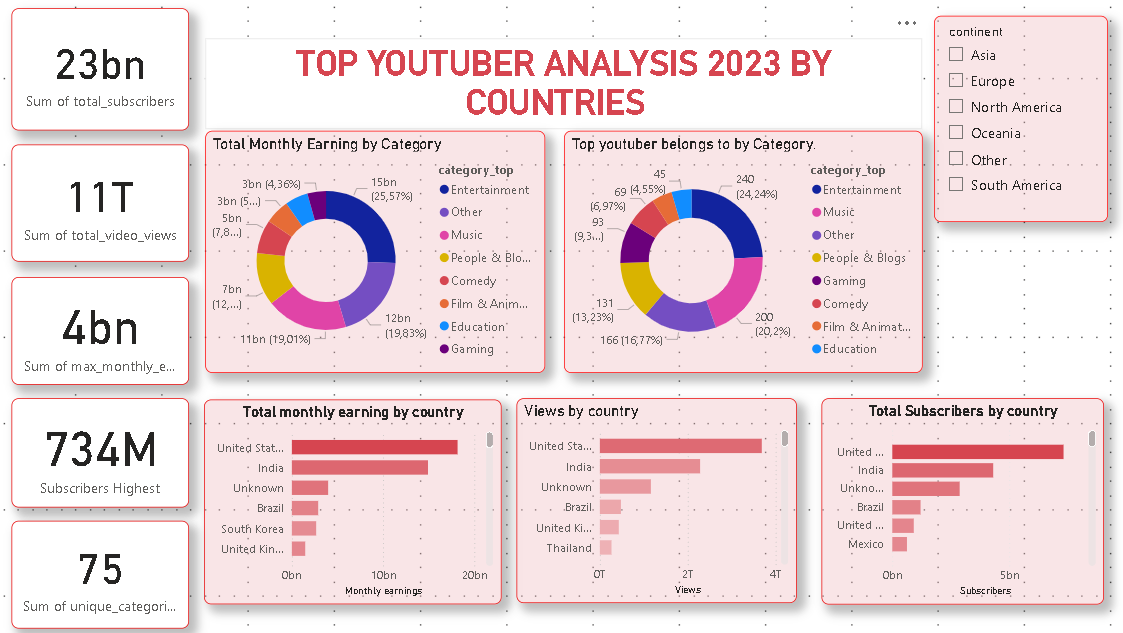

Layout of this report page (visuals, bound fields, positions):
{"tool":"powerbi","page":{"name":"Key Metrics","canvas":[1280,720],"ordinal":0},"visuals":[{"type":"card","fields":{"Values":["Sum(1 1.total_subscribers)"]},"box":[25,17.5,197.5,136.2],"z":0},{"type":"card","fields":{"Values":["Sum(1 1.total_video_views)"]},"box":[25,170,197.5,130],"z":1000},{"type":"card","fields":{"Values":["Sum(1 1.max_monthly_earnings)"]},"box":[25,317.5,197.5,120],"z":2000},{"type":"textbox","box":[240,51.2,798.8,101.2],"z":3000},{"type":"card","fields":{"Values":["Sum(1 1.max_subscribers)"]},"box":[25,452.5,197.5,121.2],"z":4000},{"type":"clusteredBarChart","title":"Total Subscribers by country","fields":{"Category":["1 5.country"],"Y":["Sum(1 5.subscribers)"]},"box":[926.6,452.2,314.4,229.6],"z":5000},{"type":"clusteredBarChart","title":"Total monthly earning by country","fields":{"Category":["1 5.country"],"Y":["Sum(1 5.highest_monthly_earnings)"]},"box":[238.8,453.6,331.1,228.2],"z":6000},{"type":"card","fields":{"Values":["Sum(1 1.unique_categories)"]},"box":[25,588.8,197.5,120],"z":7000},{"type":"clusteredBarChart","fields":{"Category":["1 5.country"],"Y":["Sum(1 5.video_views)"]},"box":[586.9,452.2,311.7,228.2],"z":8000},{"type":"donutChart","title":"Top youtuber belongs to by Category.","fields":{"Category":["1 5.category_top"],"Y":["CountNonNull(1 5.subscribers)"]},"box":[640,154.4,399.3,269.9],"z":9000},{"type":"donutChart","title":" Total Monthly Earning by Category ","fields":{"Y":["Sum(1 5.highest_monthly_earnings)"],"Category":["1 5.category_top"]},"box":[240.7,154.4,378.4,269.9],"z":10000},{"type":"slicer","fields":{"Values":["2 1.continent"]},"box":[1051.8,26.4,193.4,229.6],"z":11000}]}

Visuals, with their boxes in screenshot pixels (x1, y1, x2, y2), scaled from the page's 1280x720 canvas onto the 1123x633 screenshot:
card - Sum(1 1.total_subscribers): x1=22 y1=15 x2=195 y2=135
card - Sum(1 1.total_video_views): x1=22 y1=149 x2=195 y2=264
card - Sum(1 1.max_monthly_earnings): x1=22 y1=279 x2=195 y2=385
textbox: x1=211 y1=45 x2=911 y2=134
card - Sum(1 1.max_subscribers): x1=22 y1=398 x2=195 y2=504
"Total Subscribers by country" clusteredBarChart: x1=813 y1=398 x2=1089 y2=599
"Total monthly earning by country" clusteredBarChart: x1=210 y1=399 x2=500 y2=599
card - Sum(1 1.unique_categories): x1=22 y1=518 x2=195 y2=623
clusteredBarChart - 1 5.country x Sum(1 5.video_views): x1=515 y1=398 x2=788 y2=598
"Top youtuber belongs to by Category." donutChart: x1=562 y1=136 x2=912 y2=373
" Total Monthly Earning by Category " donutChart: x1=211 y1=136 x2=543 y2=373
slicer - 2 1.continent: x1=923 y1=23 x2=1092 y2=225
